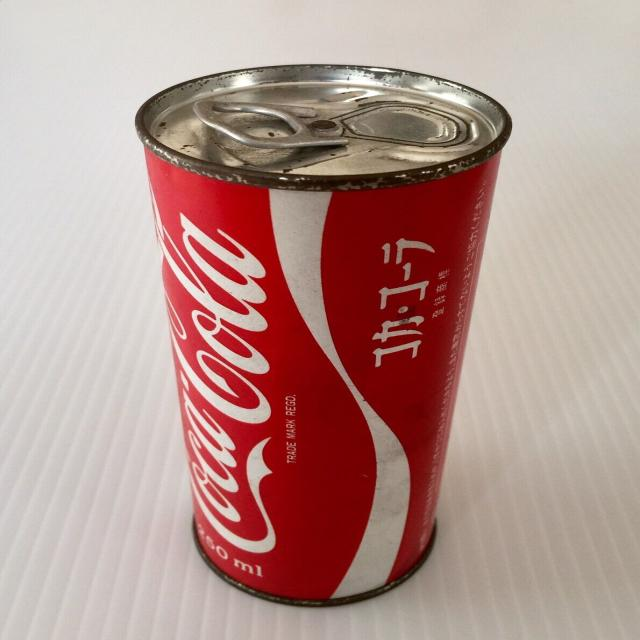can: (133, 61, 516, 611)
